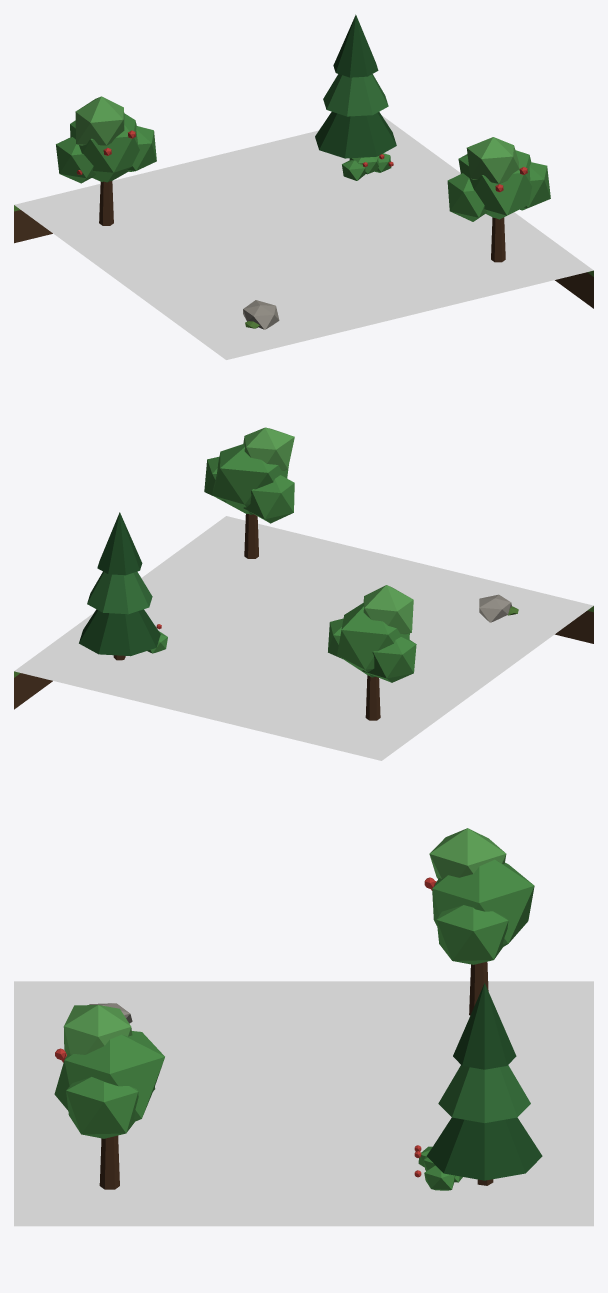
The picture shows the model from 3 angles, top to bottom: view 1: azimuth 30°, elevation 25°; view 2: azimuth 150°, elevation 25°; view 3: azimuth 270°, elevation 25°; orthographic projection. The views are drawn at different scales.
Parts seen in each view (by area): view 1: rC; view 2: rC; view 3: rC.
Boxes of the visible parts, bbox=[...] form: rC: bbox=[14, 14, 593, 359]; rC: bbox=[14, 427, 593, 760]; rC: bbox=[14, 828, 593, 1226].
Size of the model in its own units: 2 by 0.96 by 2.
